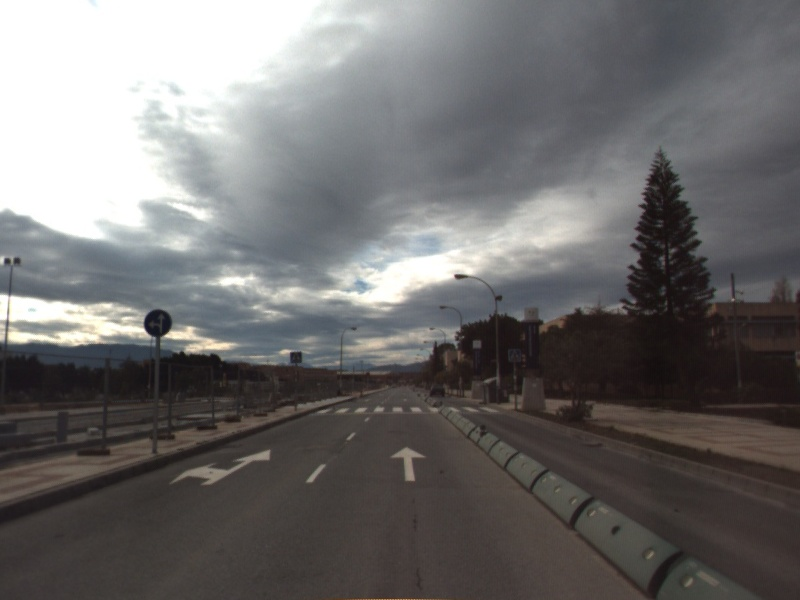STRAIGHT: (388, 444, 429, 483)
STRAIGHT_LEFT: (167, 447, 272, 487)
